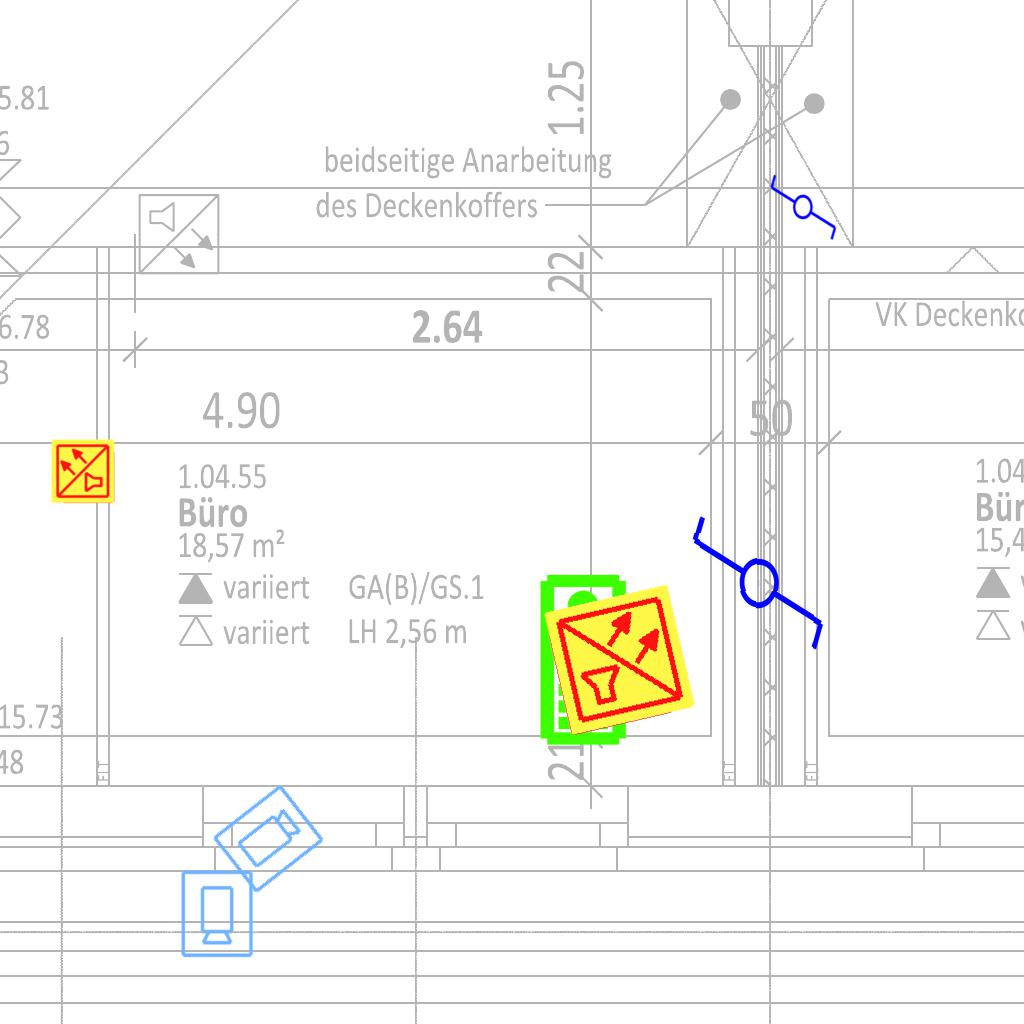Gegensprechanlage_mit_Video: (534, 571, 629, 747)
KFO_Kamera_mit_Festobjektiv: (208, 781, 329, 898), (178, 868, 255, 959)
OKW_Multisensormelder_(Kombination_optischer_Rauch-Kahlenmonoxid_Waerme-Melder): (540, 580, 700, 740), (50, 438, 116, 504)
Wechselschalter: (683, 511, 830, 671), (768, 164, 840, 242)
